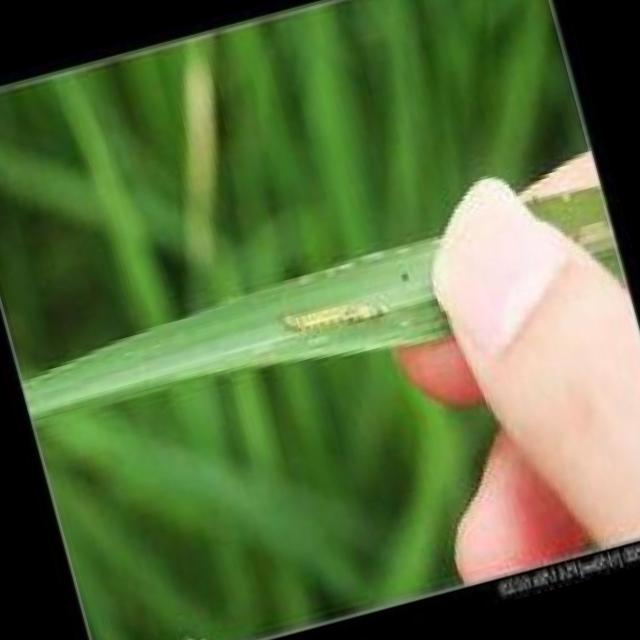leaf-folder: (256, 266, 385, 372)
